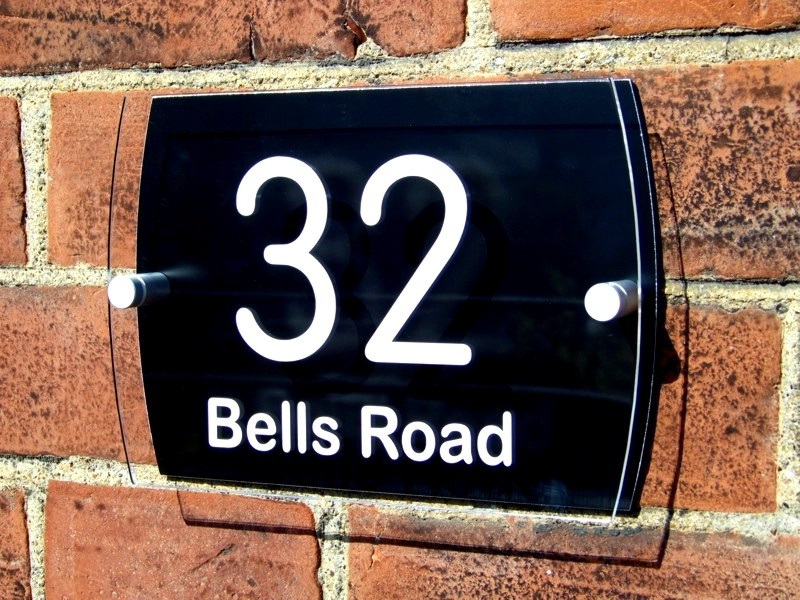text: (235, 153, 250, 368), (251, 153, 266, 368), (267, 153, 282, 368), (283, 153, 298, 368), (299, 153, 314, 368), (315, 153, 330, 368), (331, 153, 346, 368), (347, 153, 362, 368), (363, 153, 378, 368), (379, 153, 394, 368), (395, 153, 410, 368), (411, 153, 426, 368), (427, 153, 442, 368), (443, 153, 458, 368), (459, 153, 474, 368), (360, 406, 375, 473), (376, 406, 391, 473), (392, 406, 407, 473), (408, 406, 423, 473), (424, 406, 439, 473), (440, 406, 455, 473), (456, 406, 471, 473), (472, 406, 487, 473), (488, 406, 503, 473), (504, 406, 519, 473), (203, 396, 218, 460), (219, 396, 234, 460), (235, 396, 250, 460), (251, 396, 266, 460), (267, 396, 282, 460), (283, 396, 298, 460), (299, 396, 314, 460), (315, 396, 330, 460), (331, 396, 346, 460)
